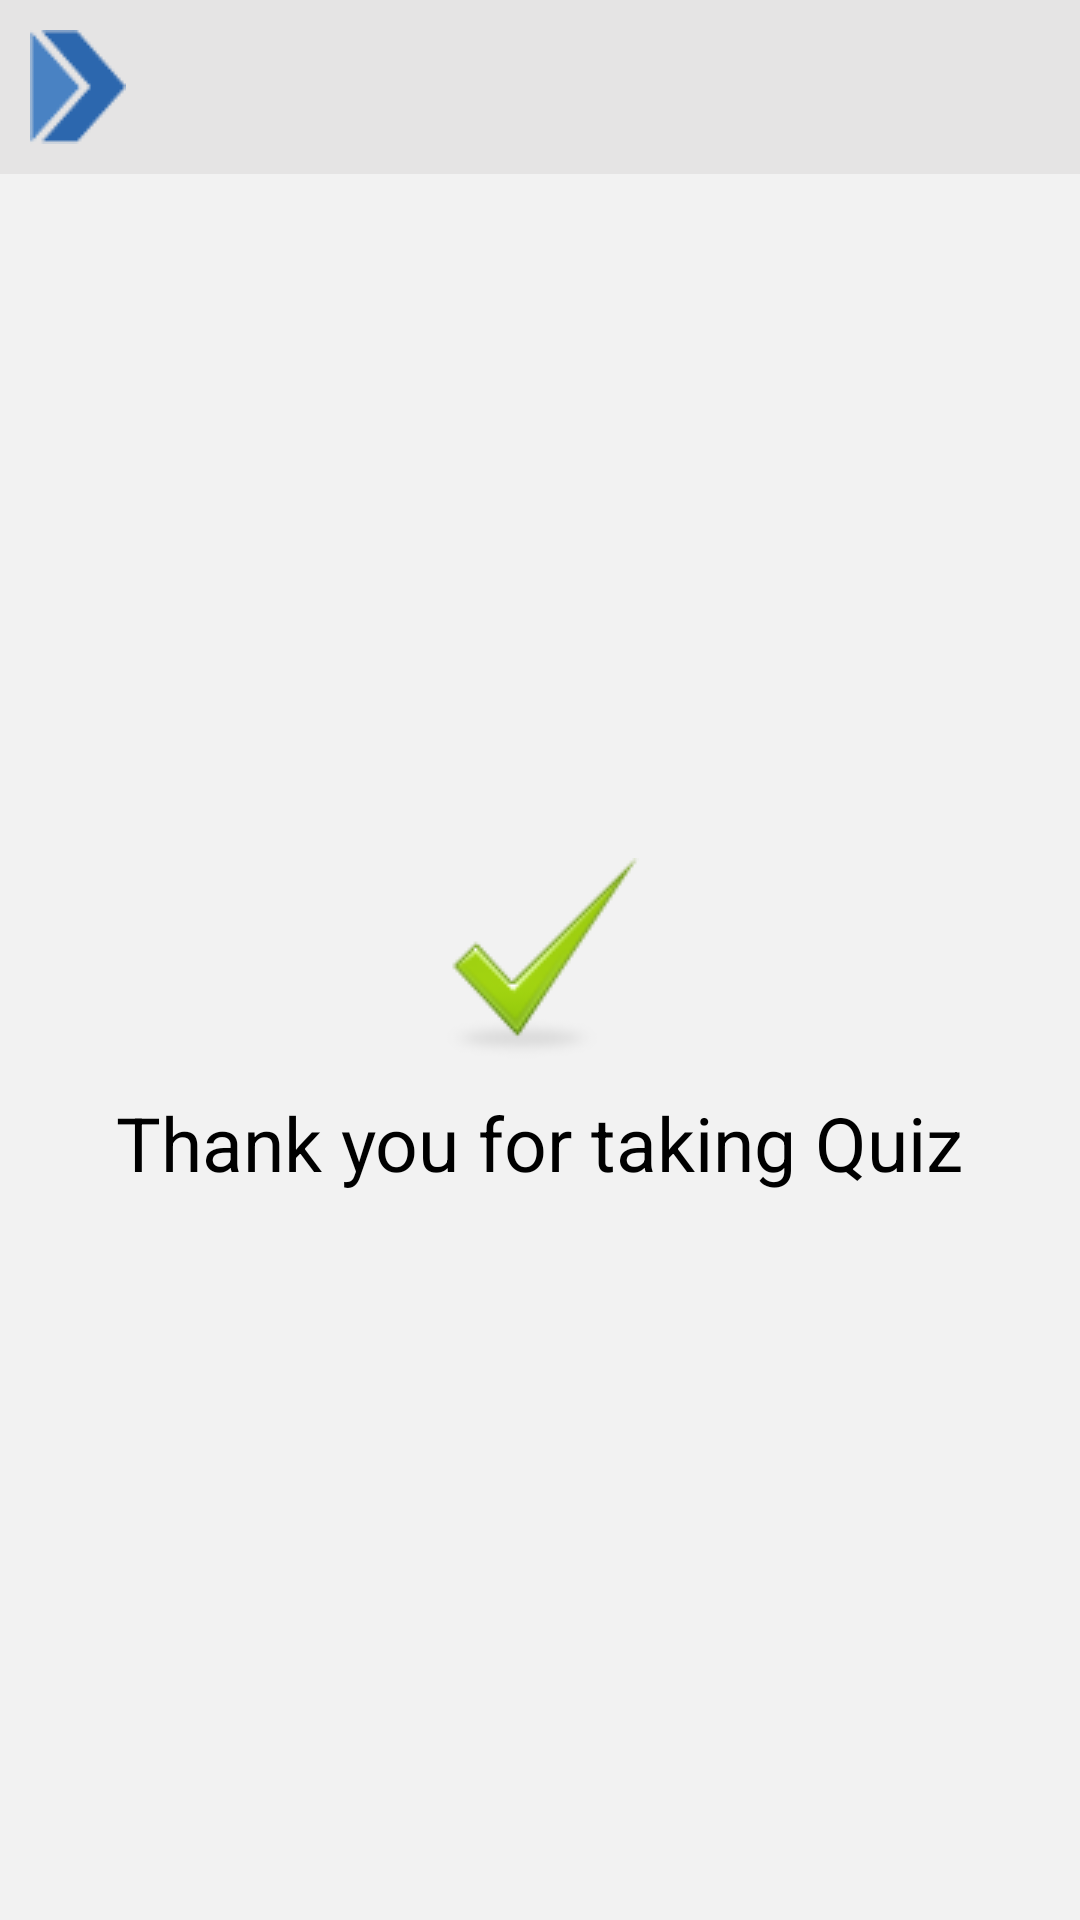

Icons on this 1080*1920 Android screen, each with the point to tap as (x=x, y=y):
ticker: (x=544, y=948)
